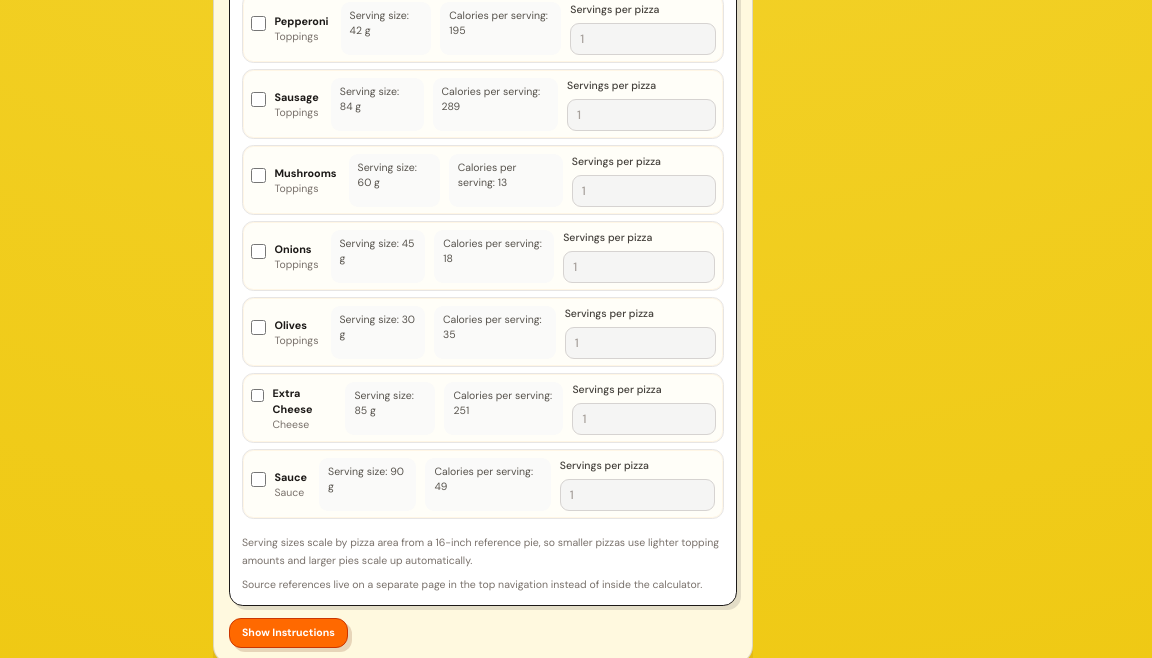
App › expands instructions and swaps to sourdough guidance
(page scrolled)
Click the button "Show Instructions": (288, 633) x1=229 y1=618 x2=348 y2=648
(page scrolled)
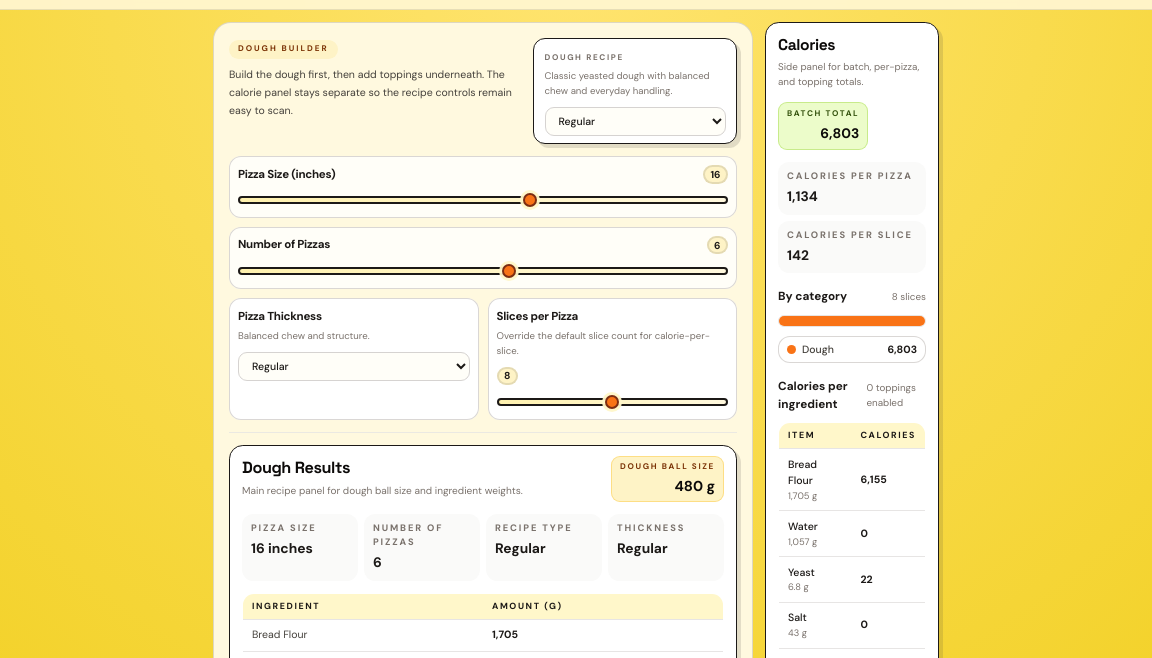
Select "Sourdough" in the dropdown labelled "Dough Recipe": (635, 122) x1=544 y1=107 x2=726 y2=136
(page scrolled)
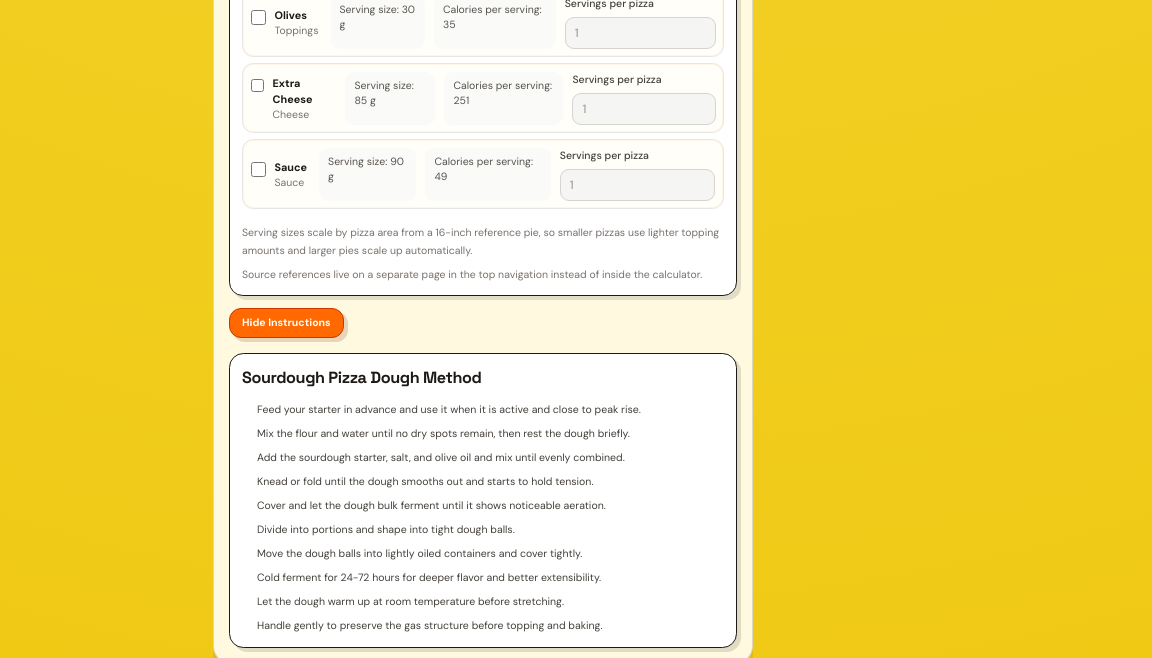
Expected: the heading "Sourdough Pizza Dough Method" is shown, x1=242 y1=367 x2=481 y2=388
